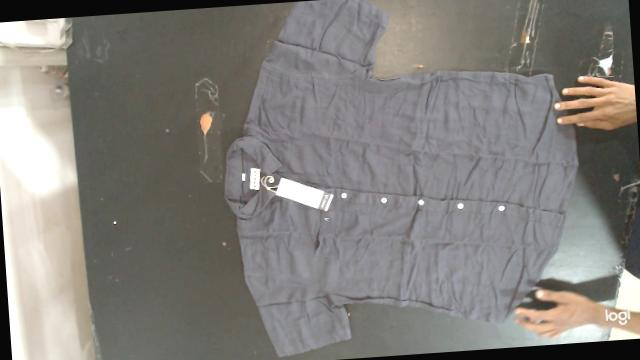new-garment: (224, 0, 577, 355)
